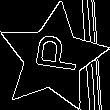P_W: (25, 36, 80, 80)
